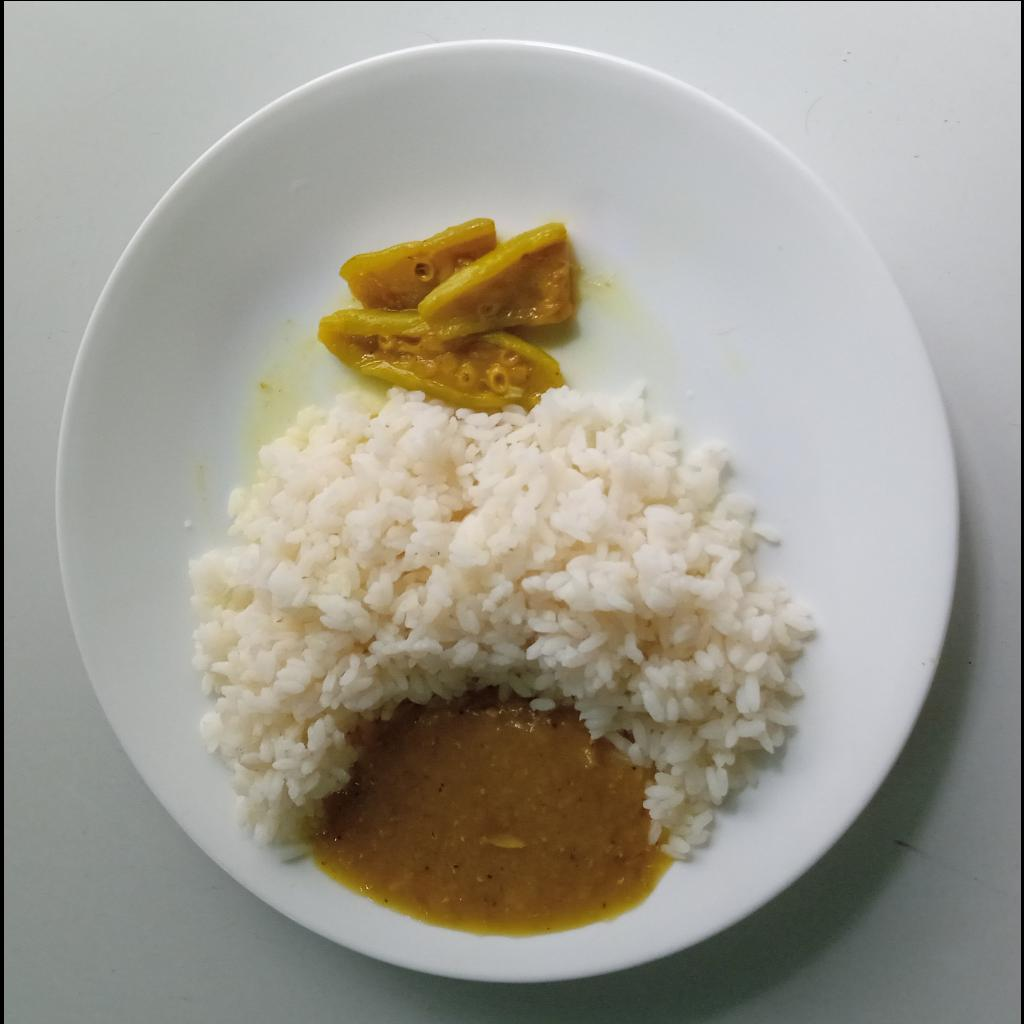daal: (311, 691, 677, 934)
potol: (319, 213, 576, 406)
rice: (183, 380, 817, 863)
